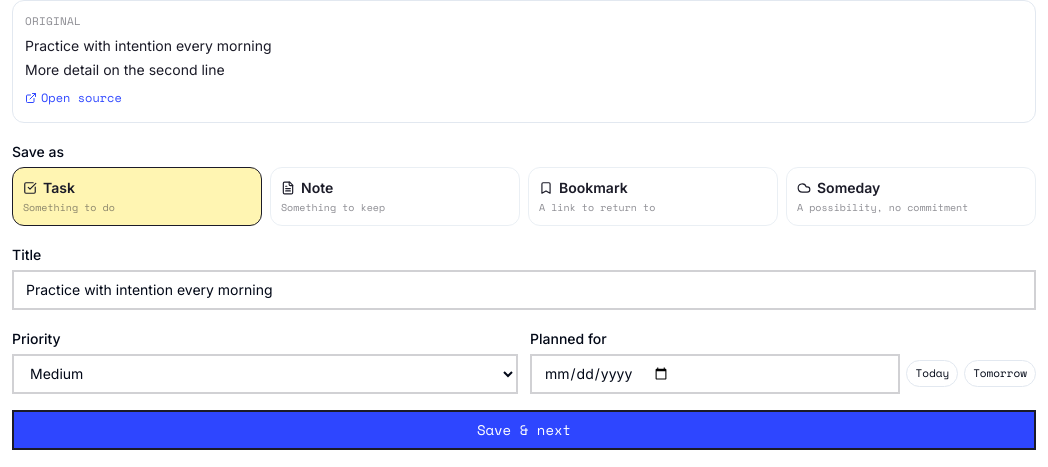
Test: CaptureProcessor › asks for a url when saving as a bookmark and pre-fills it from the source
Click the radio button labelled "Bookmark A link to return to" at (653, 196), box [528,166,778,226]
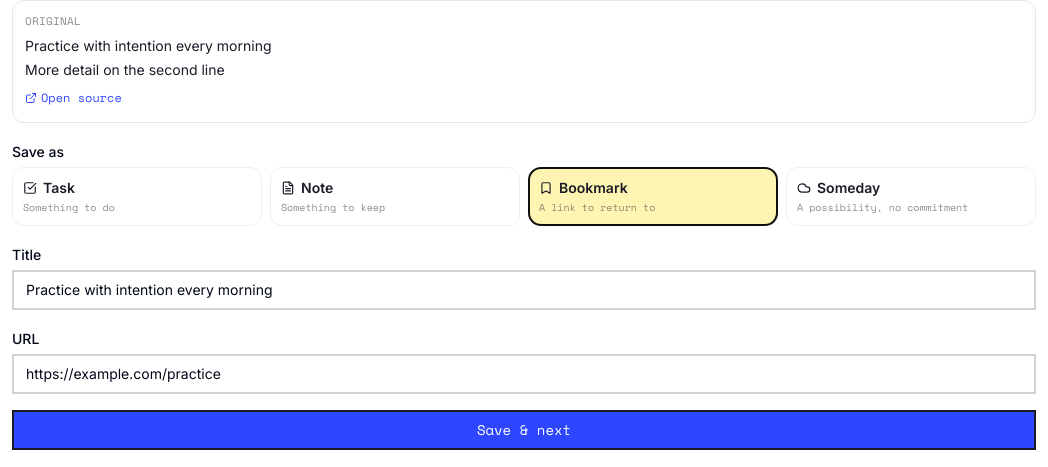
Expected: the field labelled "URL" holds "https://example.com/practice", [12,354,1036,394]
